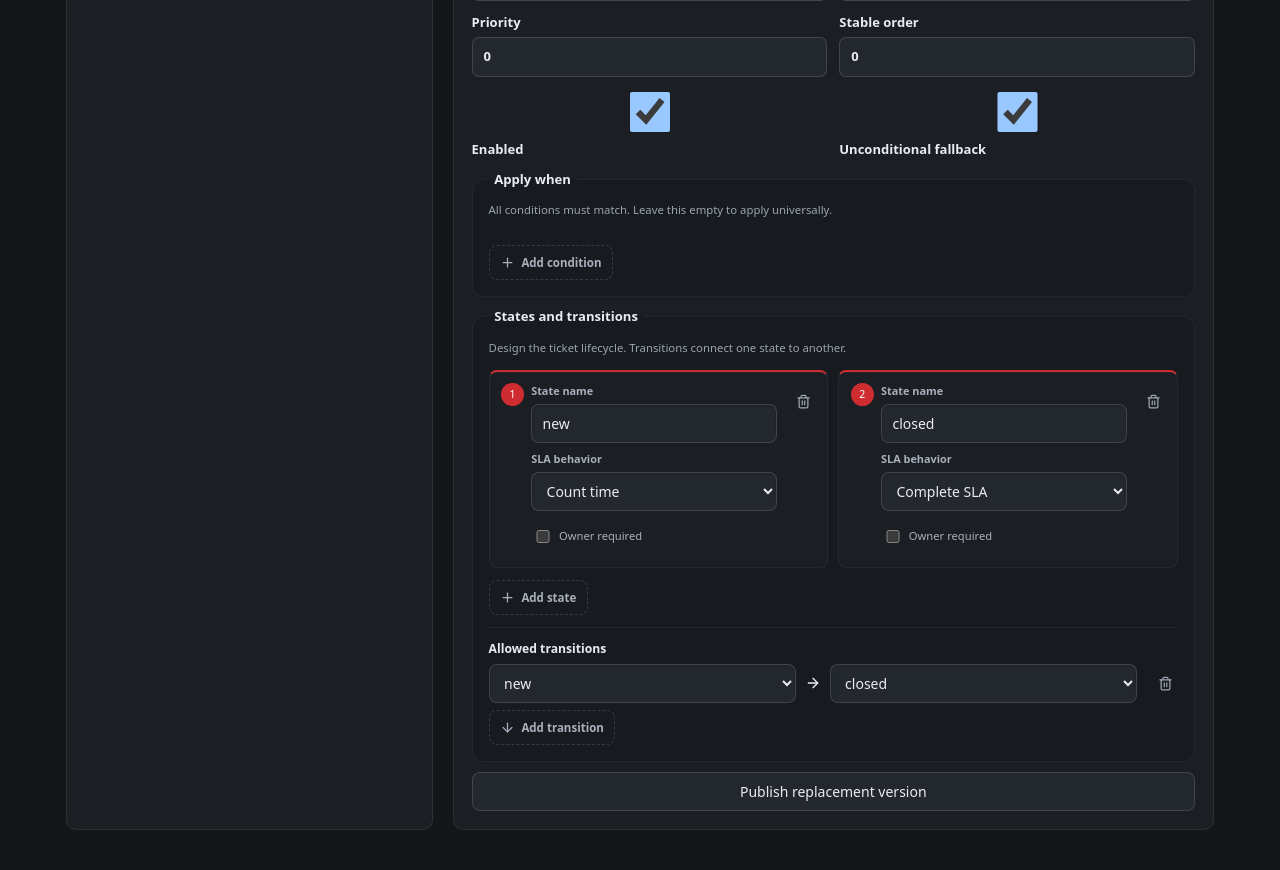
Test case: publishes a versioned workflow through the active client scope
(page scrolled)
Click the button "Publish replacement version" at (833, 792), box [472,772,1195,811]
(page scrolled)
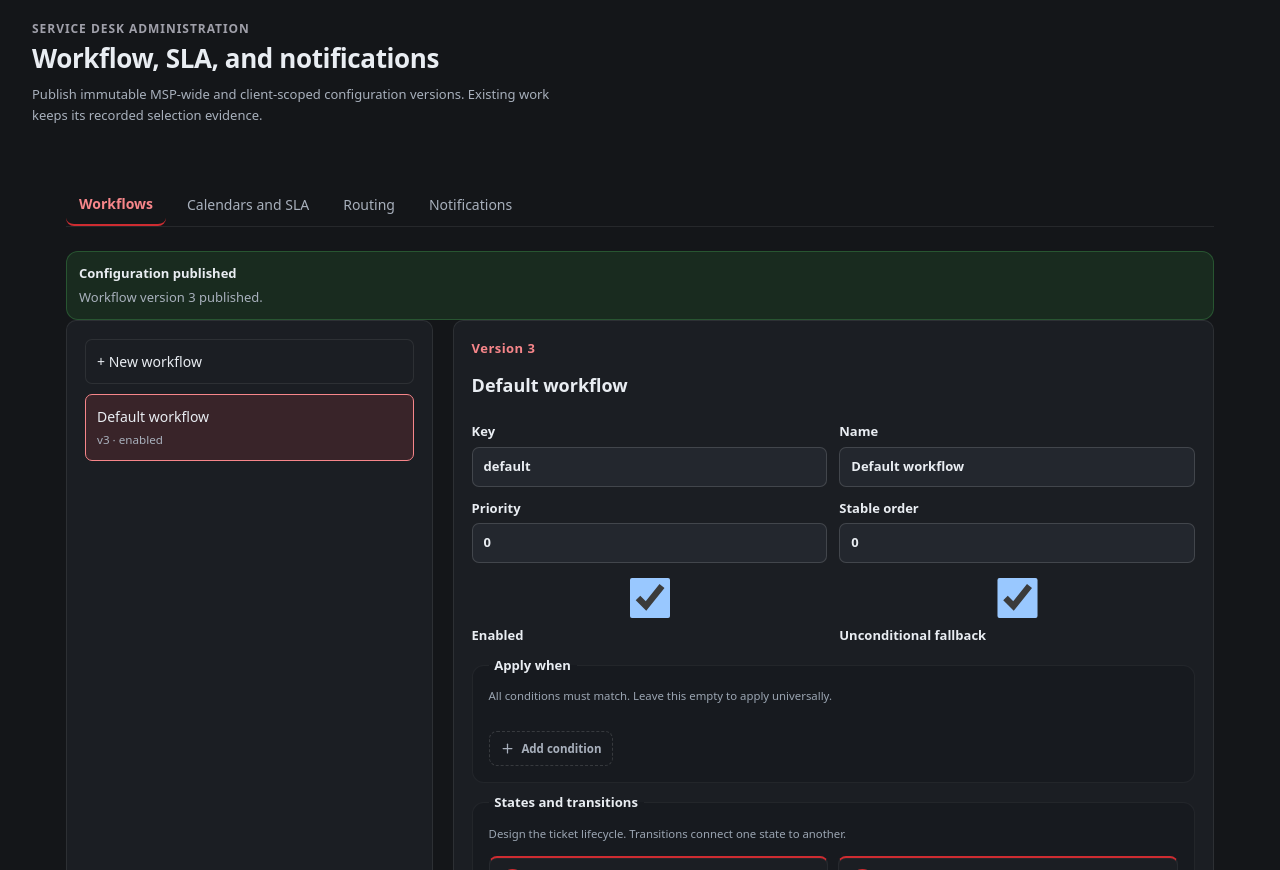
Check: the text "Workflow version 3 published." is shown, box [79,288,263,306]
